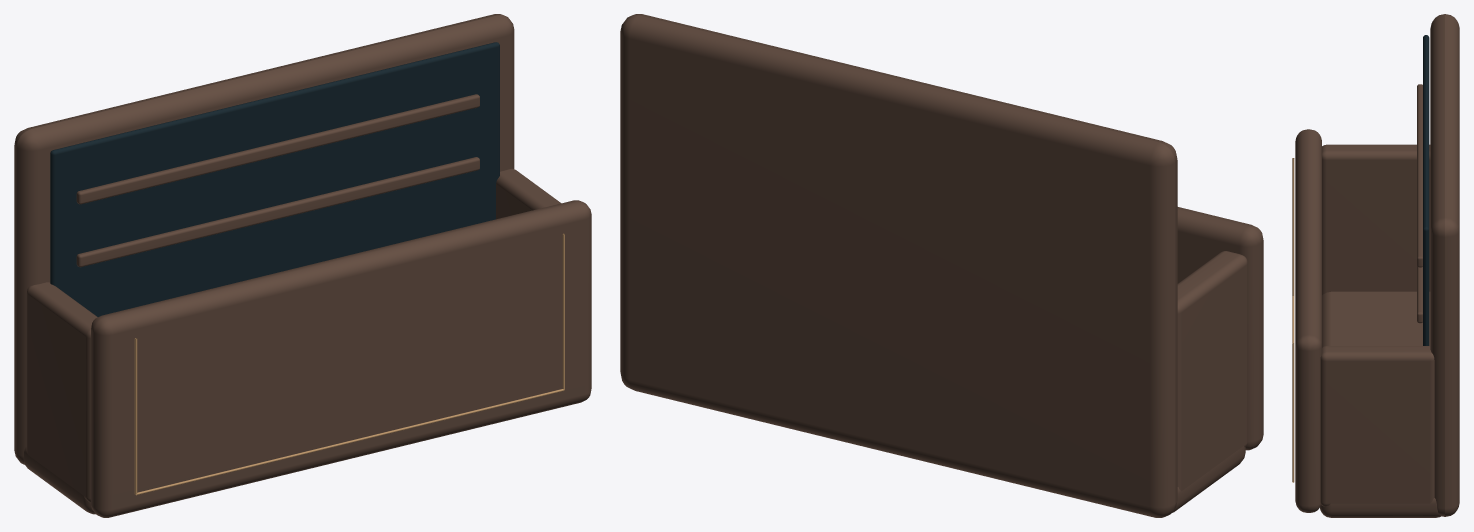
Rendered from hero-start.glb.
3 views of the same model, side by side, from view 1: azimuth 30°, elevation 25°; view 2: azimuth 150°, elevation 25°; view 3: azimuth 270°, elevation 25° (orthographic). The views are drawn at different scales.
Parts seen in each view (by area): view 1: Wallet front panel, Empty inner lining, Wallet rear leather panel, Wallet folded gusset, Empty leather card slot, Empty leather card slot.001, Wallet folded gusset.001, Wallet lower stitching, Wallet base fold; view 2: Wallet rear leather panel, Wallet folded gusset, Wallet front panel, Wallet base fold; view 3: Wallet folded gusset.001, Wallet folded gusset, Wallet rear leather panel, Wallet front panel, Wallet base fold, Empty inner lining, Empty leather card slot.001, Wallet stitched edge.001, Wallet stitched edge, Empty leather card slot.
Part boxes in pixels (bbox=[...]): Wallet front panel: bbox=[91, 200, 591, 517]; Empty inner lining: bbox=[50, 42, 499, 316]; Wallet rear leather panel: bbox=[14, 14, 514, 464]; Wallet folded gusset: bbox=[26, 282, 97, 502]; Empty leather card slot: bbox=[76, 157, 479, 267]; Empty leather card slot.001: bbox=[76, 94, 479, 204]; Wallet folded gusset.001: bbox=[496, 168, 561, 219]; Wallet lower stitching: bbox=[136, 389, 564, 495]; Wallet base fold: bbox=[23, 447, 95, 514]; Wallet rear leather panel: bbox=[620, 14, 1177, 517]; Wallet folded gusset: bbox=[1177, 251, 1247, 490]; Wallet front panel: bbox=[1177, 207, 1263, 450]; Wallet base fold: bbox=[1172, 446, 1245, 512]; Wallet folded gusset.001: bbox=[1320, 346, 1434, 506]; Wallet folded gusset: bbox=[1322, 144, 1430, 294]; Wallet rear leather panel: bbox=[1430, 14, 1459, 516]; Wallet front panel: bbox=[1295, 129, 1321, 512]; Wallet base fold: bbox=[1320, 291, 1441, 517]; Empty inner lining: bbox=[1423, 35, 1429, 345]; Empty leather card slot.001: bbox=[1417, 84, 1422, 267]; Wallet stitched edge.001: bbox=[1292, 343, 1294, 482]; Wallet stitched edge: bbox=[1292, 158, 1294, 295]; Empty leather card slot: bbox=[1417, 266, 1422, 323].
Bounding box in the file's own units: 2.86 × 1.86 × 0.9434.
